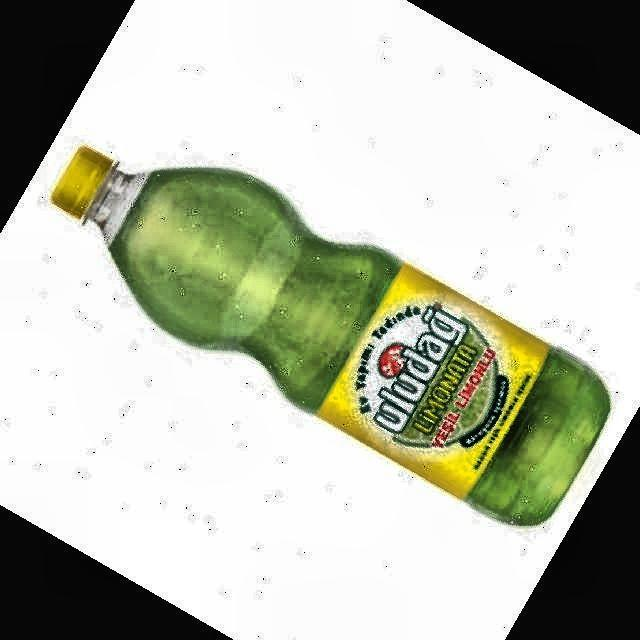plastic: (51, 146, 610, 526)
